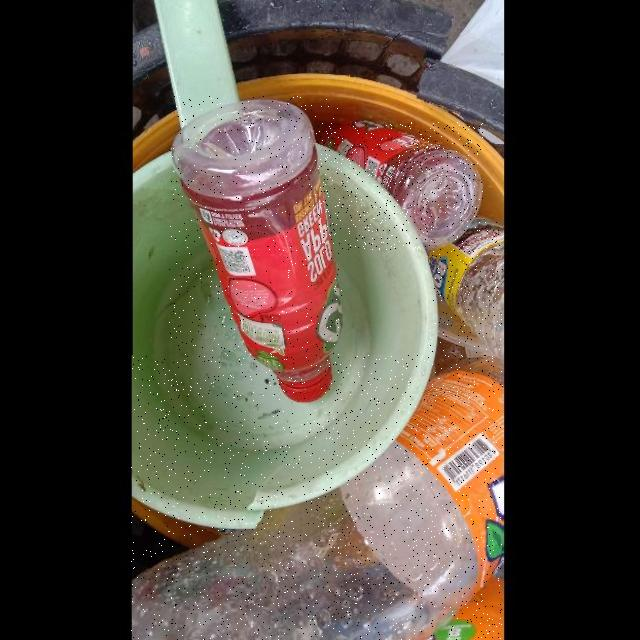plastic: (131, 355, 503, 640), (170, 96, 342, 403), (319, 122, 483, 250), (429, 221, 503, 363)
